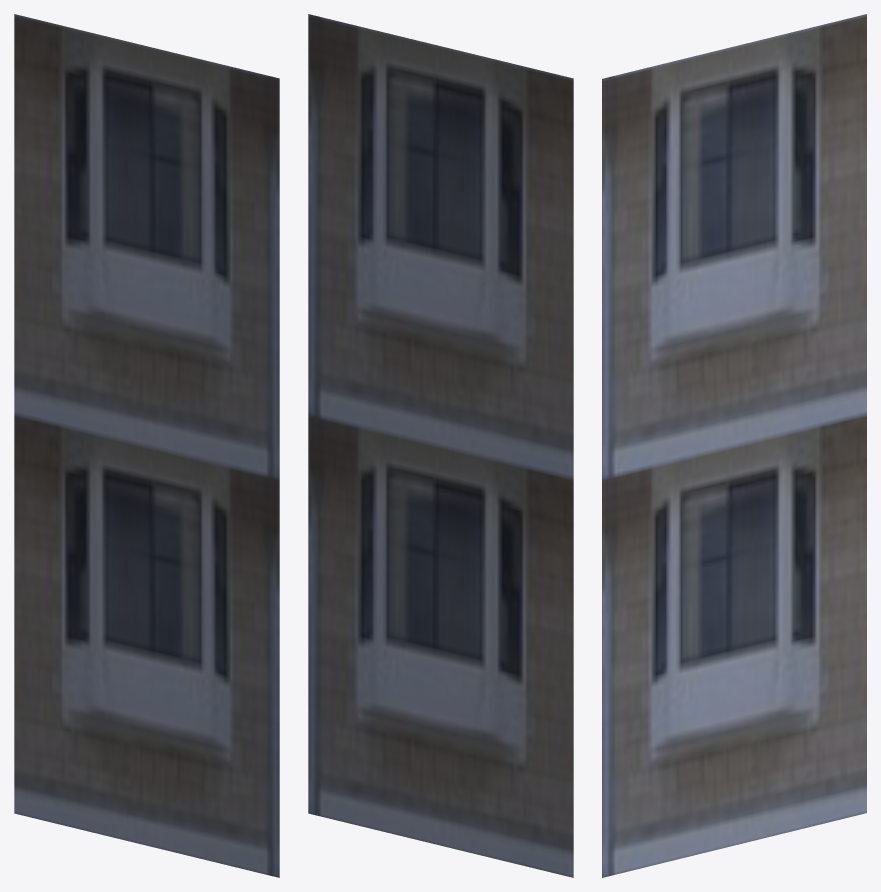
The model's file is ResTex__4611.fbx.
3 views of the same model, side by side, from view 1: azimuth 30°, elevation 25°; view 2: azimuth 210°, elevation 25°; view 3: azimuth 270°, elevation 25° (orthographic).
Visible parts, largest first — view 1: CityEngineMaterial_3_m; view 2: CityEngineMaterial_3_m; view 3: CityEngineMaterial_3_m.
Part boxes in pixels (x1,y1,x2,y2): CityEngineMaterial_3_m: (14,14,279,877); CityEngineMaterial_3_m: (308,14,573,877); CityEngineMaterial_3_m: (602,14,866,877).
Bounding box in the file's own units: 1.04 × 6 × 1.8.
1 material, 1 textured.
